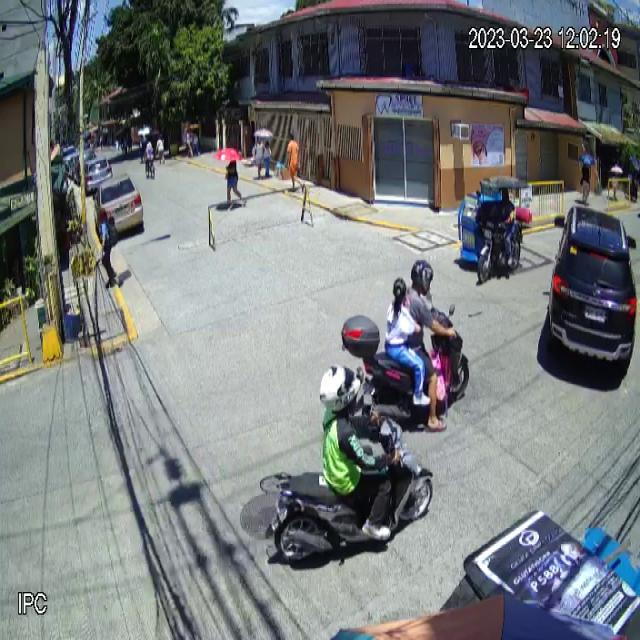Car: (546, 205, 639, 366)
Motorcycle: (260, 408, 434, 570), (340, 302, 470, 418)
Tricycle: (458, 174, 533, 284)
